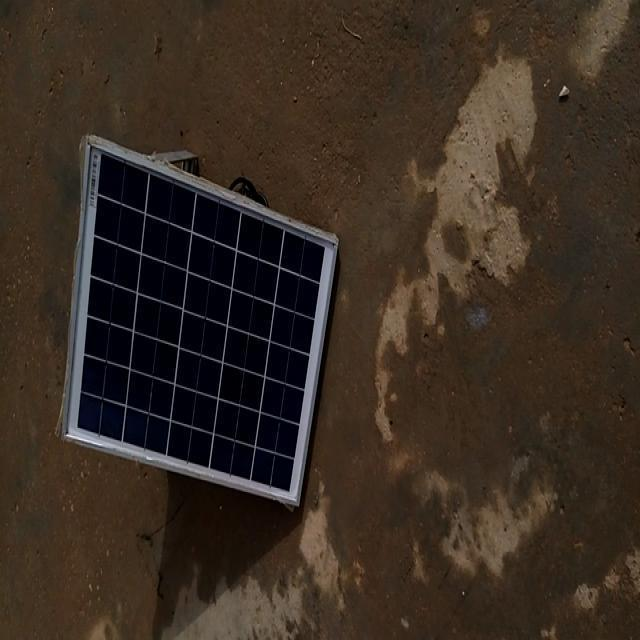Normal Solar Panel: (62, 136, 338, 509)
